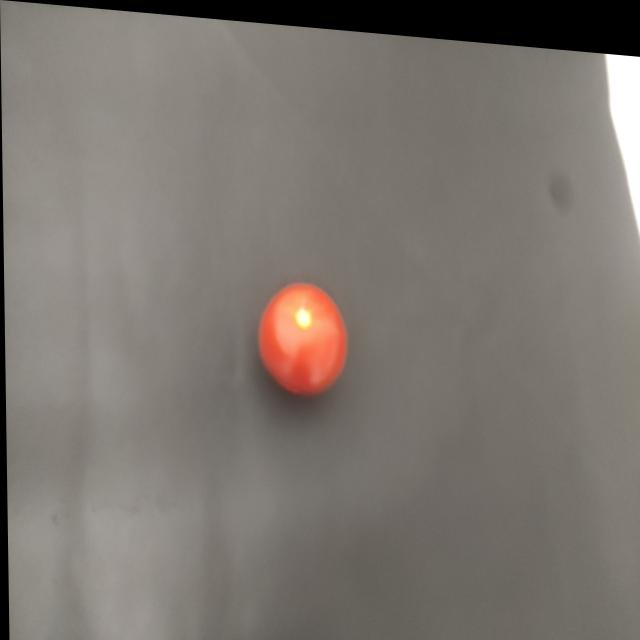kirmizi: (253, 250, 352, 413)
